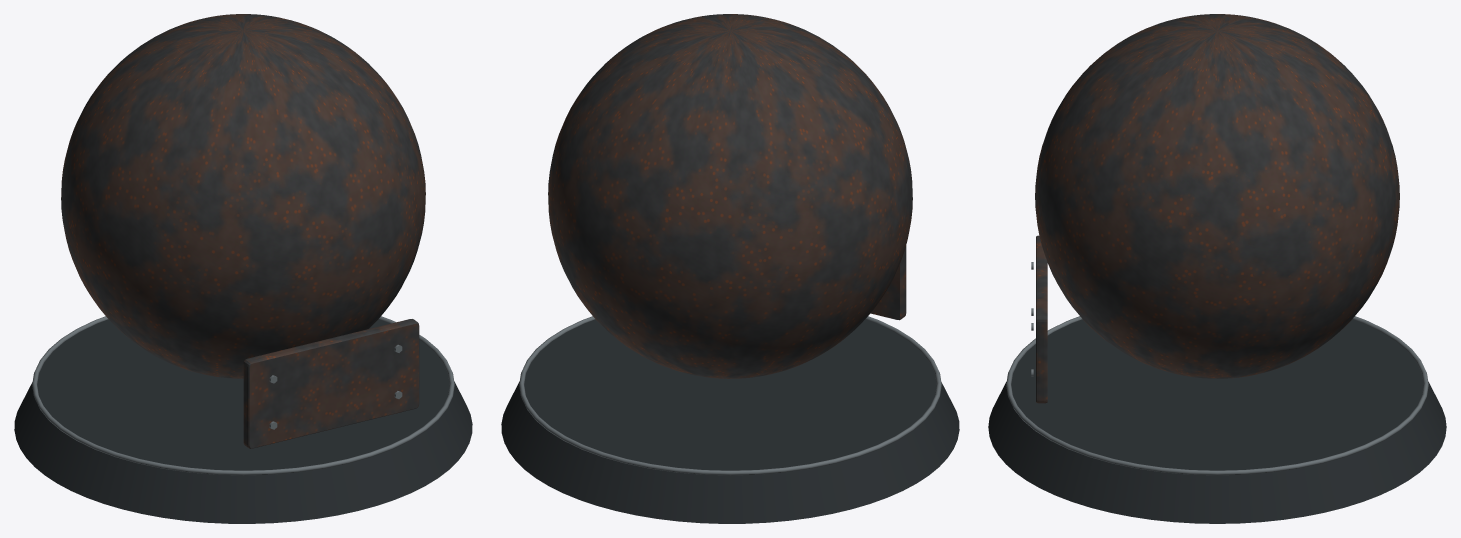
3 views of the same model, side by side, from view 1: azimuth 30°, elevation 25°; view 2: azimuth 150°, elevation 25°; view 3: azimuth 270°, elevation 25° (orthographic).
Parts seen in each view (by area): view 1: surface specimen, neutral specimen stand, specimen edge; view 2: surface specimen, neutral specimen stand, specimen edge; view 3: surface specimen, neutral specimen stand, specimen edge.
Boxes of the visible parts, box(x1,y1,x2,y2) form: surface specimen: box(61, 14, 425, 448); neutral specimen stand: box(14, 319, 472, 523); specimen edge: box(32, 316, 454, 475); surface specimen: box(548, 14, 912, 378); neutral specimen stand: box(501, 319, 959, 523); specimen edge: box(519, 316, 941, 475); surface specimen: box(1035, 14, 1399, 403); neutral specimen stand: box(988, 319, 1446, 523); specimen edge: box(1006, 262, 1428, 475).
Bounding box in the file's own units: 0.54 × 0.515 × 0.54.
Materials: 3 (1 with a texture image).
